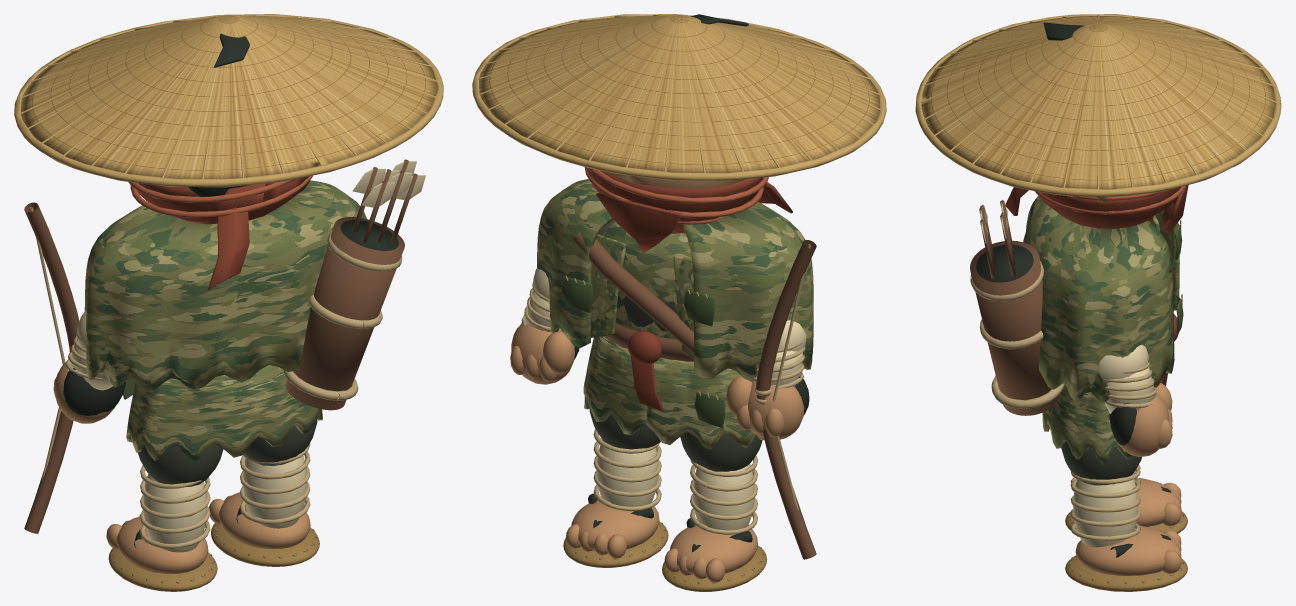
File: reed_archer.glb
3 views of the same model, side by side, from view 1: azimuth 30°, elevation 25°; view 2: azimuth 150°, elevation 25°; view 3: azimuth 270°, elevation 25° (orthographic). The views are drawn at different scales.
Visible parts, largest first — view 1: Kasa conical woven straw crown, Layered patched shoulder cloak, Layered lower cloak skirt, Wooden back quiver, Kasa bound straw rim, Wood bow LEFT hand, Scarf mouth and neck wrap, Sturdy wrapped shin_-1, Sturdy wrapped shin_1, Foot_-1, Foot_1, Rounded trouser thigh_-1 (+14 smaller); view 2: Kasa conical woven straw crown, Layered patched shoulder cloak, Layered lower cloak skirt, Kasa bound straw rim, Wood bow LEFT hand, Inner tunic, Scarf mouth and neck wrap, Diagonal chest quiver strap, Sturdy wrapped shin_-1, Foot_-1, Foot_1, Sturdy wrapped shin_1 (+24 smaller); view 3: Kasa conical woven straw crown, Layered patched shoulder cloak, Wooden back quiver, Kasa bound straw rim, Layered lower cloak skirt, Foot_1, Scarf mouth and neck wrap, Sturdy wrapped shin_1, Woven sandal sole_1, Rounded trouser thigh_1, Large hand palm_1, Dark opening inside quiver (+10 smaller).
Part boxes in pixels (left/top/right/bottom): Kasa conical woven straw crown: left=21, top=15, right=437, bottom=179; Layered patched shoulder cloak: left=84, top=180, right=366, bottom=391; Layered lower cloak skirt: left=126, top=364, right=322, bottom=462; Wooden back quiver: left=286, top=217, right=404, bottom=410; Kasa bound straw rim: left=14, top=14, right=443, bottom=187; Wood bow LEFT hand: left=24, top=202, right=79, bottom=533; Scarf mouth and neck wrap: left=137, top=176, right=309, bottom=223; Sturdy wrapped shin_-1: left=143, top=474, right=207, bottom=552; Sturdy wrapped shin_1: left=243, top=455, right=307, bottom=528; Foot_-1: left=116, top=516, right=208, bottom=573; Foot_1: left=218, top=492, right=310, bottom=549; Rounded trouser thigh_-1: left=137, top=444, right=223, bottom=486; Kasa conical woven straw crown: left=479, top=15, right=879, bottom=172; Layered patched shoulder cloak: left=537, top=179, right=813, bottom=381; Layered lower cloak skirt: left=583, top=336, right=764, bottom=449; Kasa bound straw rim: left=472, top=14, right=886, bottom=181; Wood bow LEFT hand: left=756, top=240, right=816, bottom=559; Inner tunic: left=602, top=222, right=691, bottom=339; Scarf mouth and neck wrap: left=586, top=167, right=762, bottom=233; Diagonal chest quiver strap: left=572, top=232, right=693, bottom=353; Sturdy wrapped shin_-1: left=693, top=464, right=754, bottom=530; Foot_-1: left=670, top=525, right=757, bottom=574; Foot_1: left=571, top=500, right=659, bottom=550; Sturdy wrapped shin_1: left=596, top=439, right=658, bottom=506; Kasa conical woven straw crown: left=921, top=16, right=1275, bottom=189; Layered patched shoulder cloak: left=1023, top=196, right=1179, bottom=402; Wooden back quiver: left=970, top=240, right=1059, bottom=415; Kasa bound straw rim: left=915, top=14, right=1281, bottom=196; Layered lower cloak skirt: left=1042, top=381, right=1161, bottom=465; Foot_1: left=1075, top=525, right=1179, bottom=575; Scarf mouth and neck wrap: left=1039, top=187, right=1180, bottom=228; Sturdy wrapped shin_1: left=1073, top=479, right=1138, bottom=547; Woven sandal sole_1: left=1065, top=555, right=1187, bottom=591; Rounded trouser thigh_1: left=1061, top=441, right=1141, bottom=485; Large hand palm_1: left=1117, top=393, right=1169, bottom=457; Dark opening inside quiver: left=976, top=244, right=1033, bottom=282.
Bounding box in the file's own units: 3.24 × 4.46 × 2.8.
Materials: 14 (3 with a texture image).
